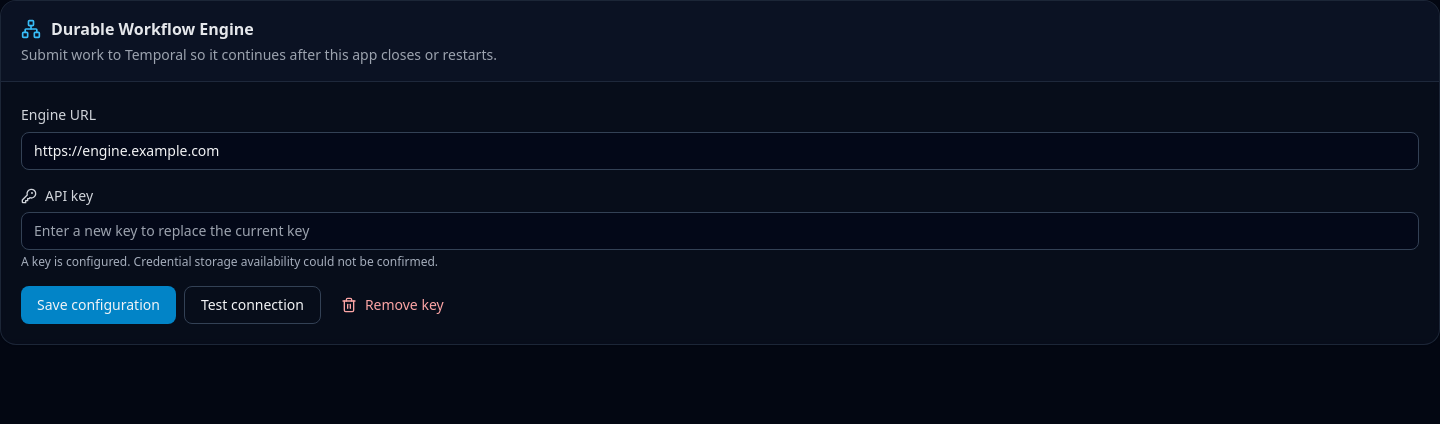
Test: DurableWorkflowSettings › shows an error when the connection test fails
The image size is (1440, 424).
Click the button "Test connection". click: [252, 305]
box: [184,286,321,324]
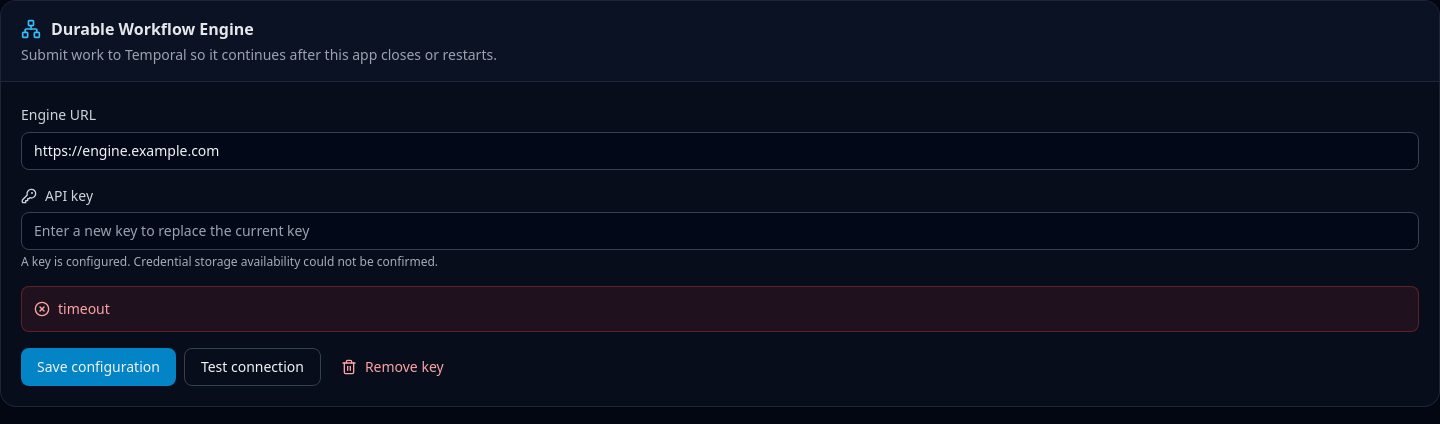
Now the text "timeout" is shown, box [21,286,1419,332]
